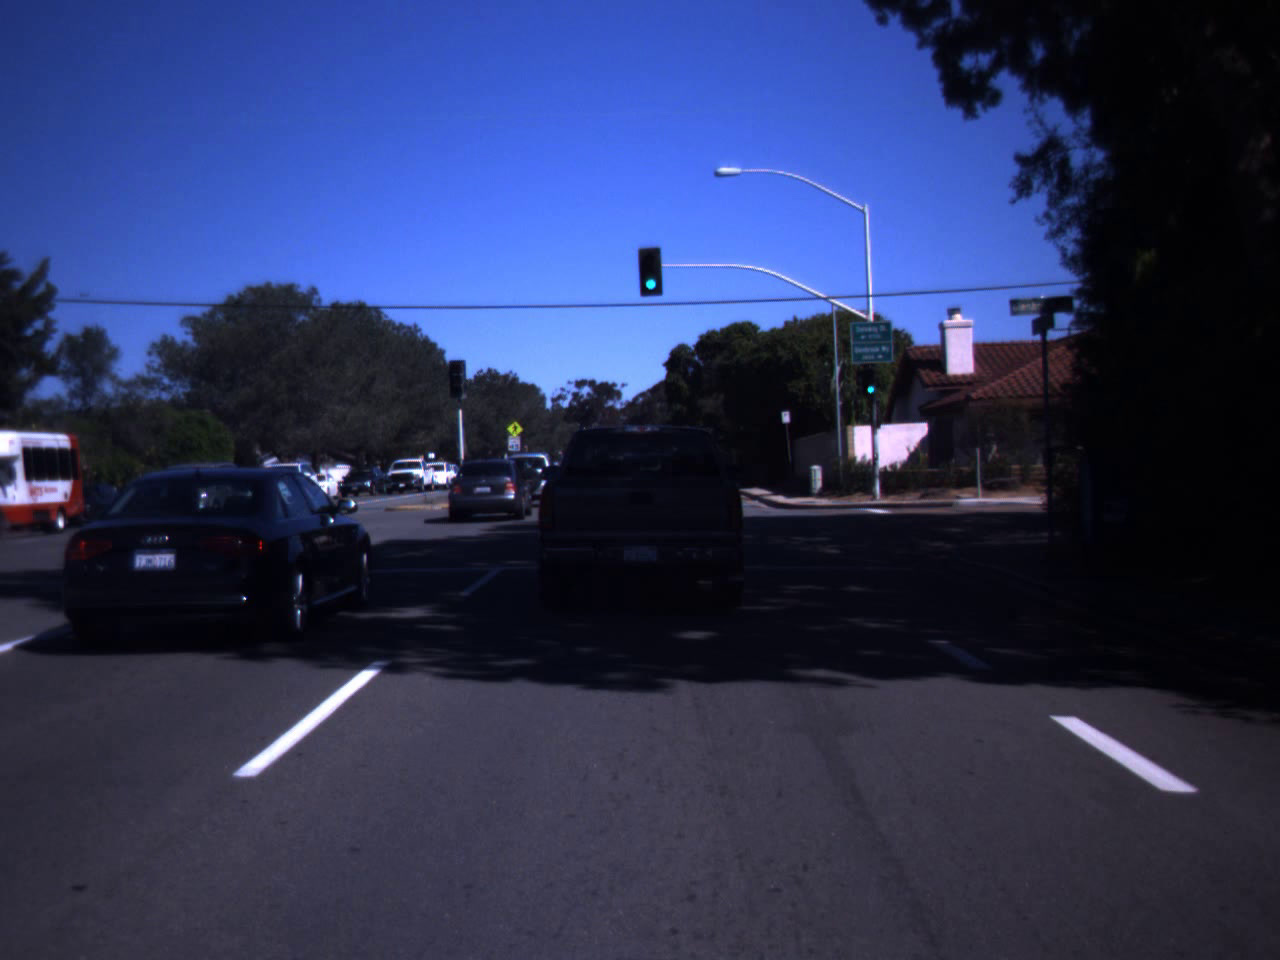go: (637, 252, 664, 292), (862, 374, 880, 394)
